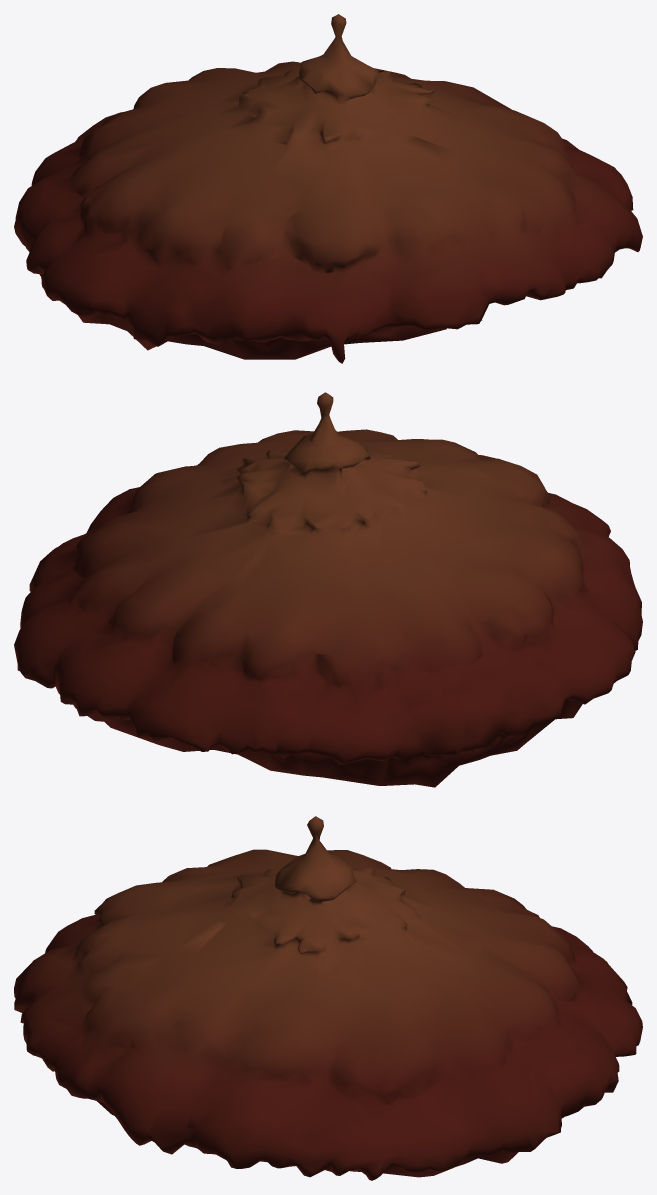
Rendered from leaf-shelter.glb.
3 views of the same model, one above another, from view 1: azimuth 30°, elevation 25°; view 2: azimuth 150°, elevation 25°; view 3: azimuth 270°, elevation 25° (orthographic). The views are drawn at different scales.
Parts seen in each view (by area): view 1: leaf-shelter; view 2: leaf-shelter; view 3: leaf-shelter.
Part boxes in pixels (x1=…): leaf-shelter: x1=14, y1=14, x2=642, y2=363; leaf-shelter: x1=14, y1=392, x2=642, y2=787; leaf-shelter: x1=14, y1=816, x2=642, y2=1180.
Bounding box in the file's own units: 0.0245 × 0.0113 × 0.0242.
